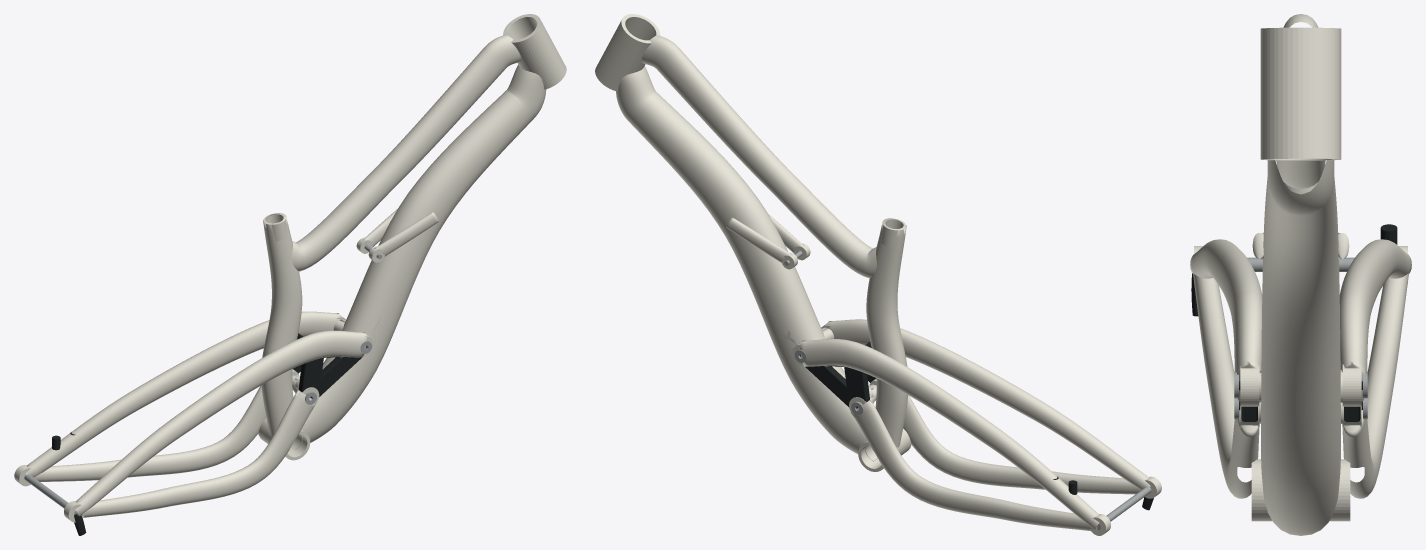
File: yt-tues-mk4-carbon--m.glb
The picture shows the model from 3 angles, left to right: view 1: azimuth 30°, elevation 25°; view 2: azimuth 150°, elevation 25°; view 3: azimuth 270°, elevation 25°; orthographic projection. The views are drawn at different scales.
Visible parts, largest first — view 1: yt-tues-mk4-carbon__paint_0, yt-tues-mk4-carbon__detail_1, yt-tues-mk4-carbon__detail_2; view 2: yt-tues-mk4-carbon__paint_0, yt-tues-mk4-carbon__detail_1, yt-tues-mk4-carbon__detail_2; view 3: yt-tues-mk4-carbon__paint_0, yt-tues-mk4-carbon__detail_1, yt-tues-mk4-carbon__detail_2.
Part boxes in pixels (box(x1,y1,x2,y2)): yt-tues-mk4-carbon__paint_0: box(14, 14, 566, 522); yt-tues-mk4-carbon__detail_1: box(52, 333, 367, 535); yt-tues-mk4-carbon__detail_2: box(24, 245, 382, 514); yt-tues-mk4-carbon__paint_0: box(595, 14, 1161, 535); yt-tues-mk4-carbon__detail_1: box(799, 342, 1153, 510); yt-tues-mk4-carbon__detail_2: box(784, 251, 1151, 530); yt-tues-mk4-carbon__paint_0: box(1190, 14, 1411, 535); yt-tues-mk4-carbon__detail_1: box(1191, 224, 1397, 421); yt-tues-mk4-carbon__detail_2: box(1234, 257, 1367, 419).
Bounding box in the file's own units: 0.9985 × 0.7069 × 0.1863.
Materials: 5 (2 with a texture image).
